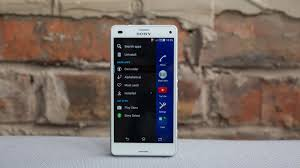sony: (109, 20, 180, 159)
